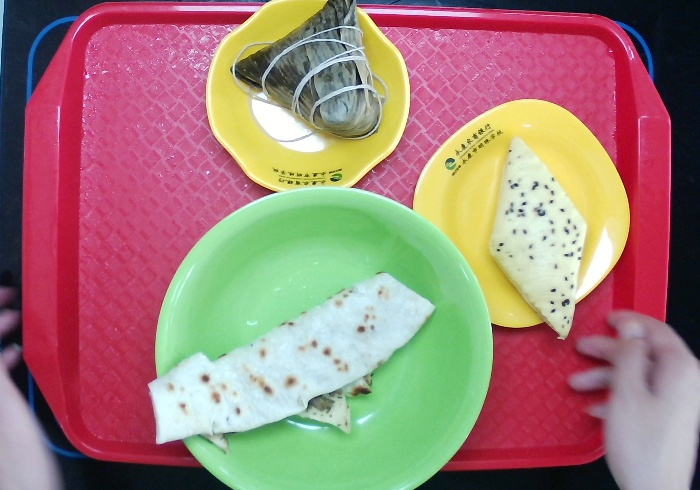YKMZ-Huang_Se_Ao_Bian_Wan: (203, 1, 412, 195)
YKMZ-Huang_Se_Fang_Die: (408, 97, 632, 331)
YKMZ-Lv_Se_Tang_Wan: (153, 183, 495, 490)
